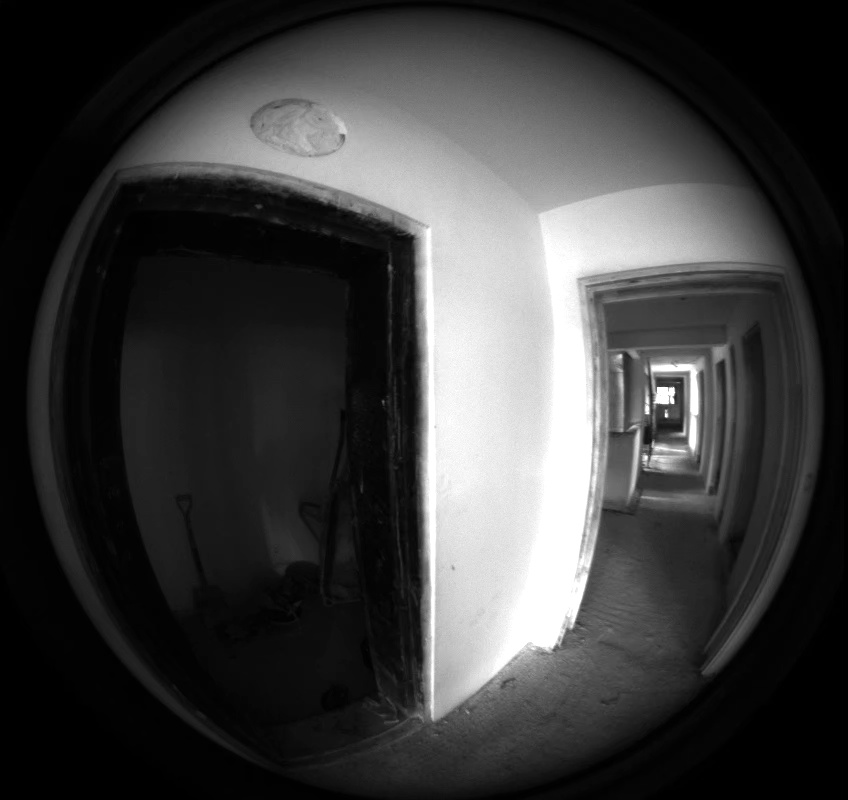Ceiling: (132, 51, 737, 346)
Door: (32, 165, 420, 761)
Floor: (296, 358, 726, 795)
Pipe: (15, 78, 624, 431)
Tools: (27, 26, 348, 710), (32, 95, 207, 589)
Windows: (20, 18, 675, 404)
